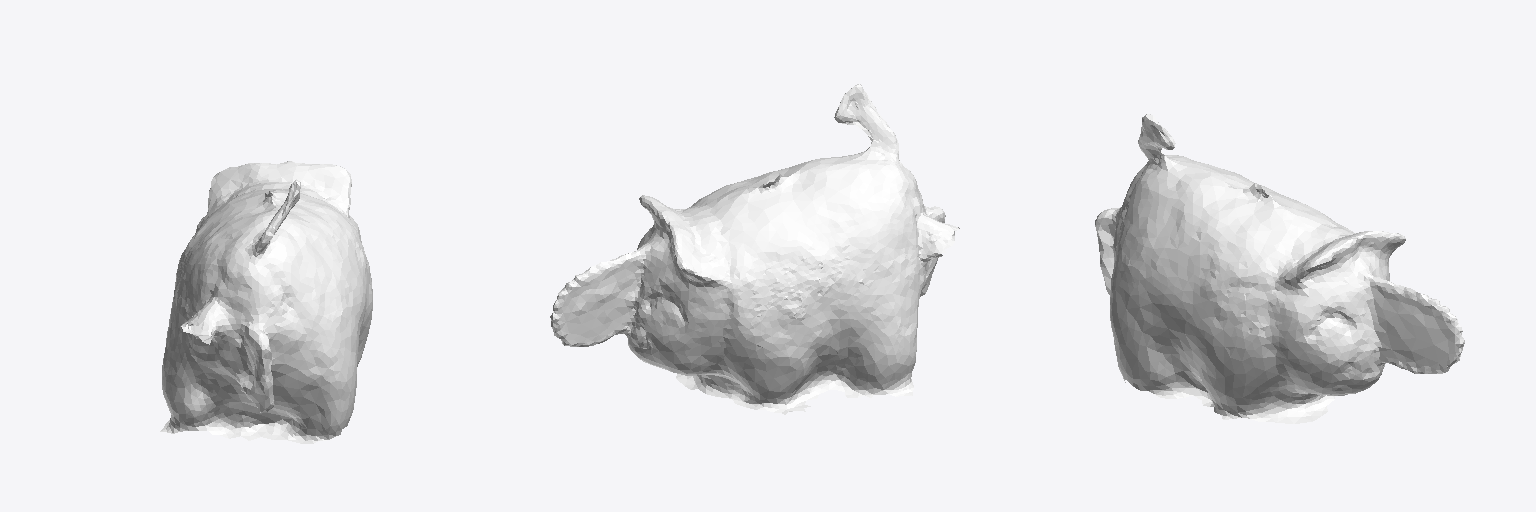
File: pochita.obj
The picture shows the model from 3 angles: view 1: azimuth 30°, elevation 25°; view 2: azimuth 150°, elevation 25°; view 3: azimuth 270°, elevation 25°; orthographic projection.
Size of the model in its own units: 0.5242 by 0.5083 by 0.6573.